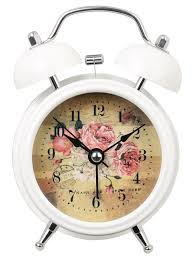alarm_clock: (20, 6, 178, 249)
